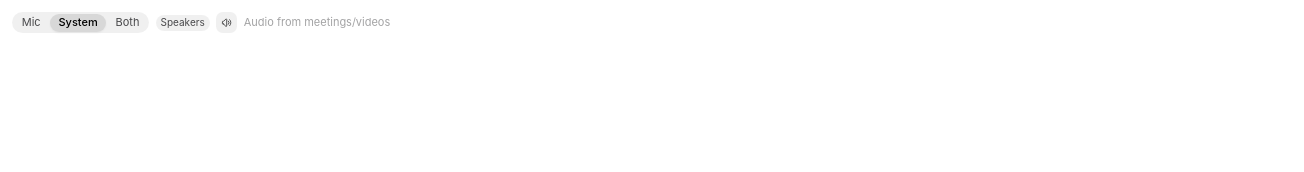
Scenario: AudioCapture › capture pipeline › should transcribe a phrase once a pause closes it (ScriptProcessor fallback)
Click the button "Mic": point(31, 23) [14,14,49,32]
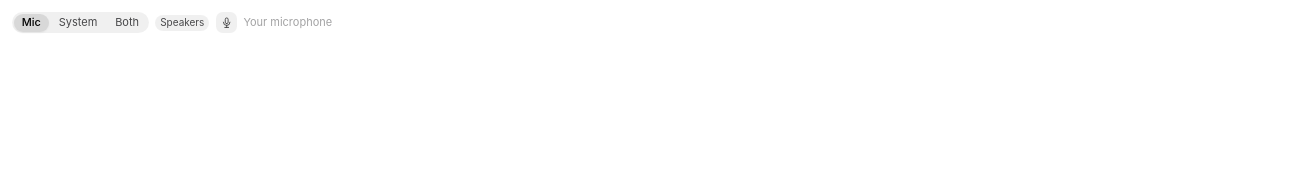
Click the button titled "Transcribe": point(226, 23) [216,12,237,33]
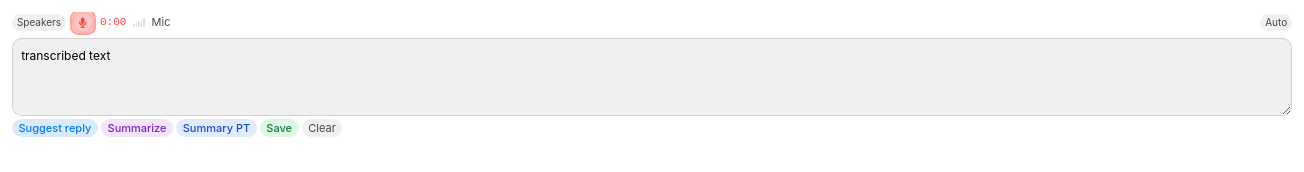
Check: the text "transcribed text" is shown, box [21,48,110,62]
